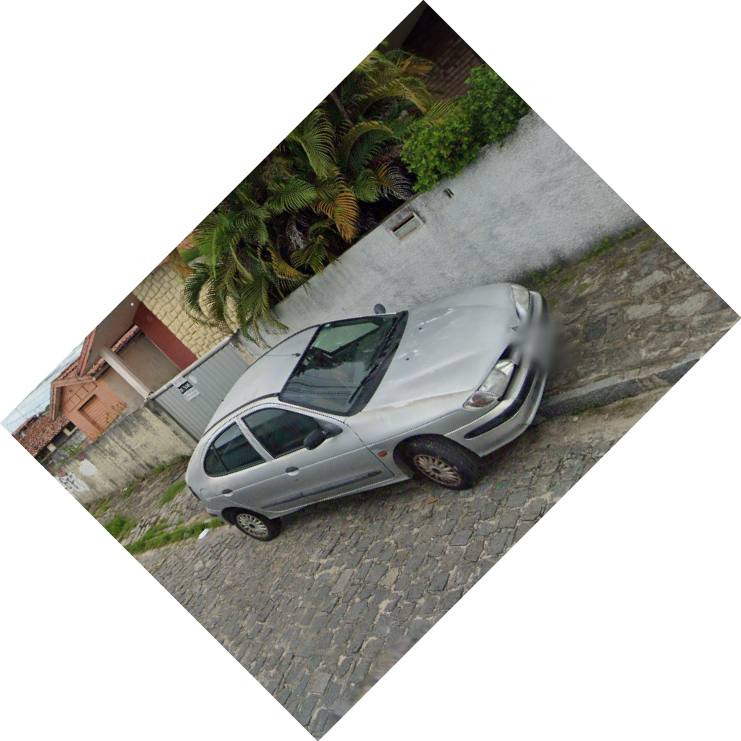car: (183, 279, 553, 544)
